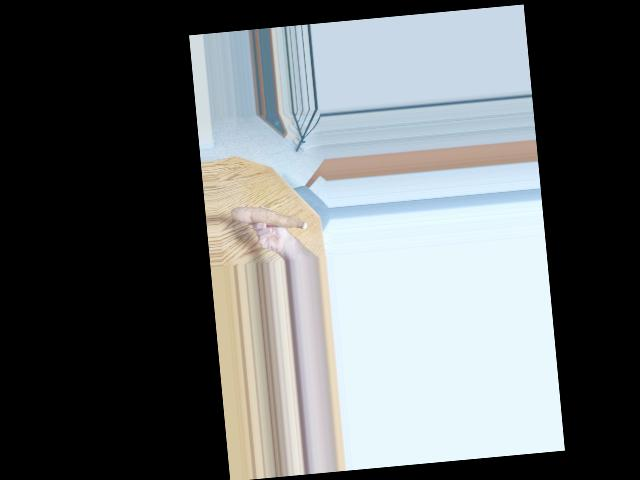sweet_potato: (233, 196, 305, 236)
